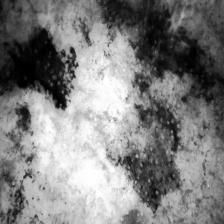Benign Marking or Mole: (106, 0, 224, 203), (0, 27, 82, 109), (0, 134, 72, 224)
